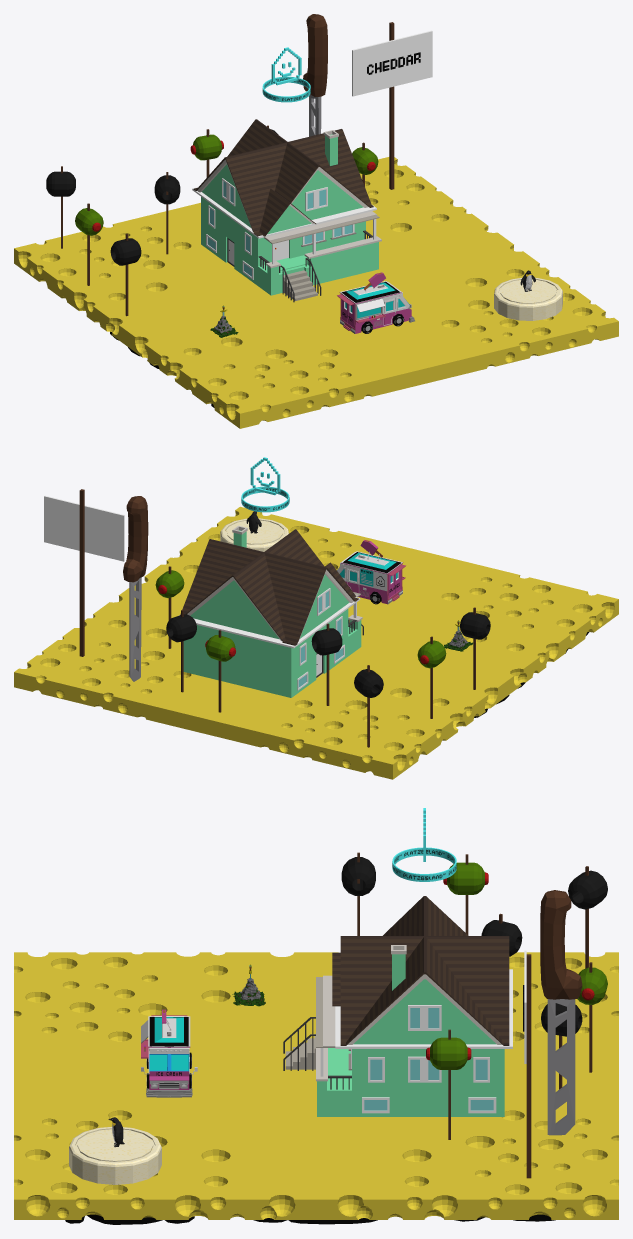
3 renders of one model, top to bottom at view 1: azimuth 30°, elevation 25°; view 2: azimuth 150°, elevation 25°; view 3: azimuth 270°, elevation 25°, orthographic. The views are drawn at different scales.
Parts seen in each view (by area): view 1: Cube.022, Cube.352, Cube.023, VEHICLES_ICE_CREAM_TRUCK, Cylinder.016, Cube.024, TYPE_PREMIUM, Sphere.017, Sphere.016, Sphere.020, Sphere.018, Sphere.022 (+1 smaller); view 2: Cube.022, Cube.352, Cube.023, Cube.024, VEHICLES_ICE_CREAM_TRUCK, Cylinder.016, TYPE_PREMIUM, Sphere.020, Sphere.022, Sphere.017, Sphere.021, Sphere.016 (+2 smaller); view 3: Cube.022, Cube.352, Cube.024, Cylinder.016, VEHICLES_ICE_CREAM_TRUCK, Cube.023, Sphere.019, Sphere.016, Sphere.018, TYPE_PREMIUM, Sphere.017, Curve.014 (+4 smaller).
Part boxes in pixels (x1,y1,x2,y2): Cube.022: [14, 157, 618, 428]; Cube.352: [192, 119, 381, 302]; Cube.023: [352, 22, 432, 189]; VEHICLES_ICE_CREAM_TRUCK: [337, 272, 414, 333]; Cylinder.016: [494, 277, 562, 320]; Cube.024: [303, 14, 327, 136]; TYPE_PREMIUM: [262, 47, 310, 102]; Sphere.017: [110, 233, 141, 316]; Sphere.016: [46, 166, 75, 248]; Sphere.020: [154, 172, 180, 254]; Sphere.018: [75, 203, 103, 285]; Sphere.022: [190, 129, 223, 177]; Cube.022: [14, 506, 618, 779]; Cube.352: [179, 525, 363, 697]; Cube.023: [44, 489, 124, 656]; Cube.024: [123, 496, 148, 681]; VEHICLES_ICE_CREAM_TRUCK: [337, 540, 405, 604]; Cylinder.016: [220, 518, 288, 551]; TYPE_PREMIUM: [241, 457, 289, 512]; Sphere.020: [311, 623, 342, 705]; Sphere.022: [205, 630, 235, 712]; Sphere.017: [460, 607, 490, 689]; Sphere.021: [166, 610, 196, 692]; Sphere.016: [354, 665, 383, 747]; Cube.022: [14, 952, 618, 1219]; Cube.352: [283, 896, 512, 1116]; Cube.024: [540, 890, 582, 1135]; Cylinder.016: [69, 1126, 161, 1184]; VEHICLES_ICE_CREAM_TRUCK: [141, 1009, 197, 1097]; Cube.023: [523, 950, 531, 1178]; Sphere.019: [426, 1029, 471, 1139]; Sphere.016: [568, 866, 607, 968]; Sphere.018: [443, 854, 488, 934]; TYPE_PREMIUM: [392, 808, 456, 881]; Sphere.017: [341, 852, 375, 935]; Curve.014: [65, 1214, 555, 1224].
Size of the model in its own units: 3917 by 2197 by 4000.
50 materials, 4 textured.
